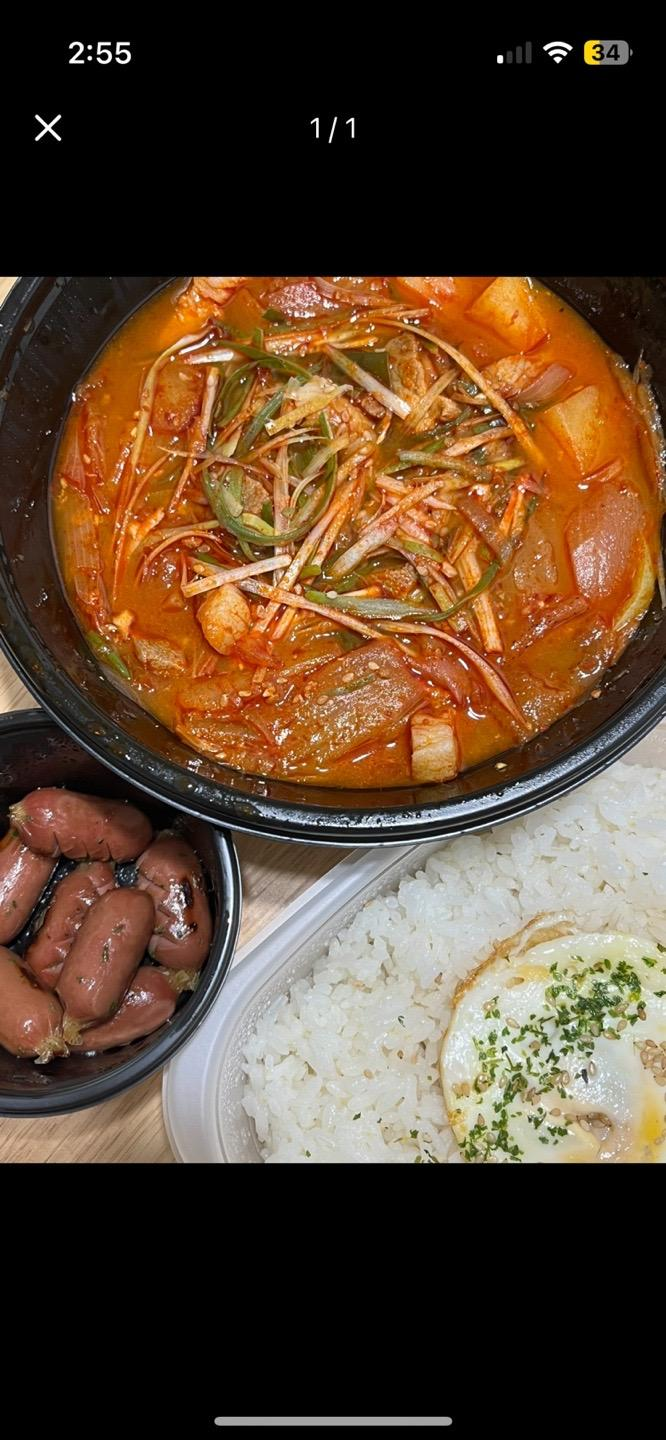Lunch Box: (0, 276, 665, 843), (163, 760, 665, 1163), (0, 710, 240, 1117)
